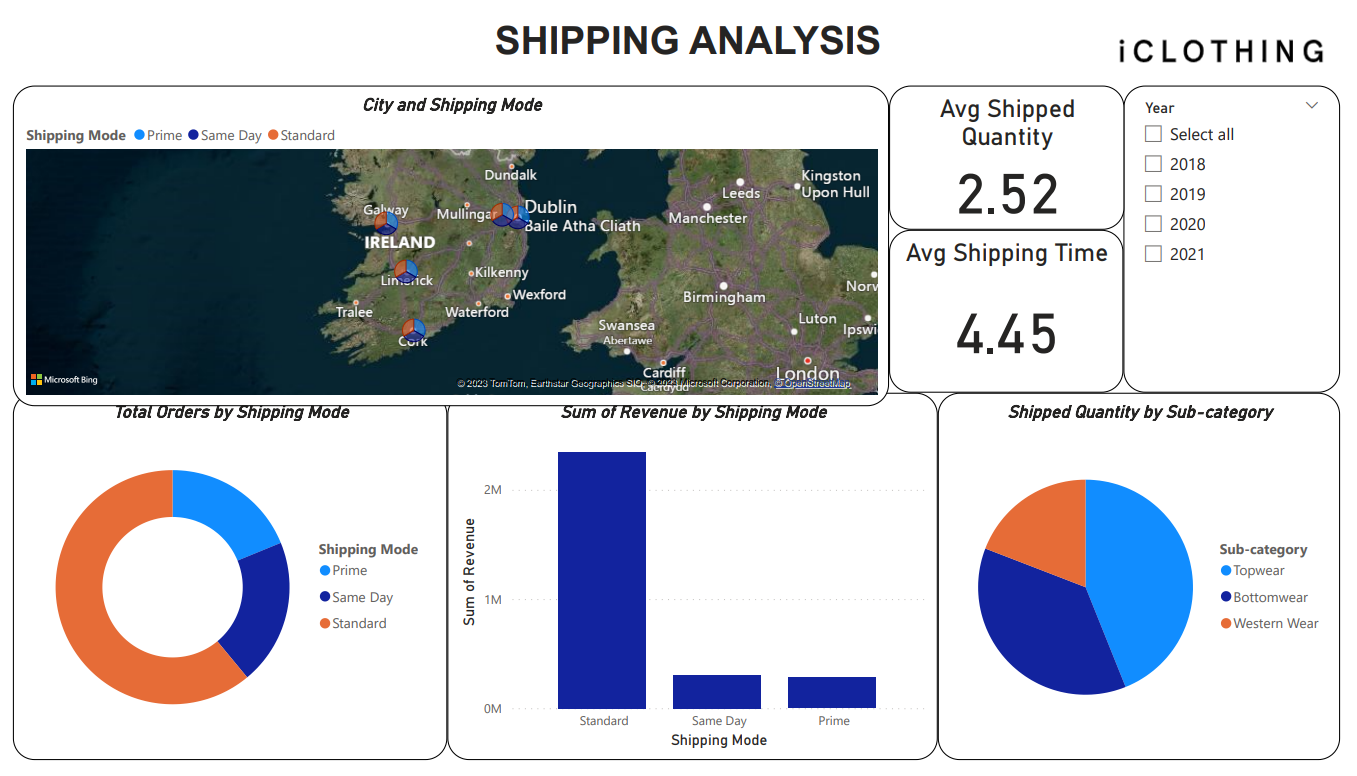

The dashboard page shown, as its layout file describes it:
{"tool":"powerbi","page":{"name":"Shipping Analysis","canvas":[1280,720],"ordinal":3},"visuals":[{"type":"donutChart","fields":{"Y":["CountNonNull(iclothing customers.Customer ID)"],"Series":["iclothing sales.Shipping Mode"]},"box":[0,366.4,418.5,354],"z":0},{"type":"card","title":"Avg Shipping Time","fields":{"Values":["Avg(iclothing sales.Shipping Time)"]},"box":[845,208.8,226.2,157.5],"z":1000},{"type":"pieChart","fields":{"Category":["iclothing products.Sub-category"],"Y":["Sum(iclothing sales.Quantity)"]},"box":[891.9,366.4,388.3,354],"z":2000},{"type":"textbox","box":[0,1.4,1025,53.5],"z":3000},{"type":"image","box":[1041.2,0,238.8,70],"z":4000},{"type":"slicer","fields":{"Values":["iclothing calender.Year"]},"box":[1071.2,70,208.8,296.2],"z":5000},{"type":"columnChart","fields":{"Y":["Sum(iclothing sales.Revenue)"],"Category":["iclothing sales.Shipping Mode"]},"box":[418.5,366.4,473.4,354],"z":6000},{"type":"map","fields":{"Category":["iclothing customers.City"],"Series":["iclothing sales.Shipping Mode"]},"box":[0,70,845.3,308.7],"z":7000},{"type":"card","title":"Avg Shipped Quantity","fields":{"Values":["Avg(iclothing sales.Quantity)"]},"box":[845.3,70,226.4,138.6],"z":8000}]}

Visuals, with their boxes in screenshot pixels (x1, y1, x2, y2), scaled from the page's 1280x720 canvas onto the 1357x776 screenshot:
donutChart - CountNonNull(iclothing customers.Customer ID) x iclothing sales.Shipping Mode: {"x1": 0, "y1": 395, "x2": 444, "y2": 775}
"Avg Shipping Time" card: {"x1": 896, "y1": 225, "x2": 1136, "y2": 395}
pieChart - iclothing products.Sub-category x Sum(iclothing sales.Quantity): {"x1": 946, "y1": 395, "x2": 1356, "y2": 775}
textbox: {"x1": 0, "y1": 2, "x2": 1087, "y2": 59}
image: {"x1": 1104, "y1": 0, "x2": 1356, "y2": 75}
slicer - iclothing calender.Year: {"x1": 1136, "y1": 75, "x2": 1356, "y2": 395}
columnChart - Sum(iclothing sales.Revenue) x iclothing sales.Shipping Mode: {"x1": 444, "y1": 395, "x2": 946, "y2": 775}
map - iclothing customers.City x iclothing sales.Shipping Mode: {"x1": 0, "y1": 75, "x2": 896, "y2": 408}
"Avg Shipped Quantity" card: {"x1": 896, "y1": 75, "x2": 1136, "y2": 225}
